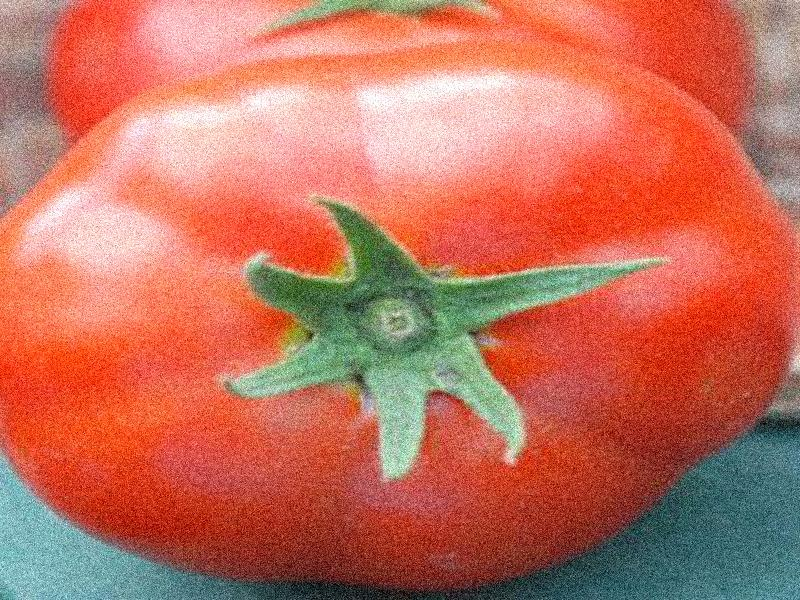Tomato: (2, 40, 800, 588)
